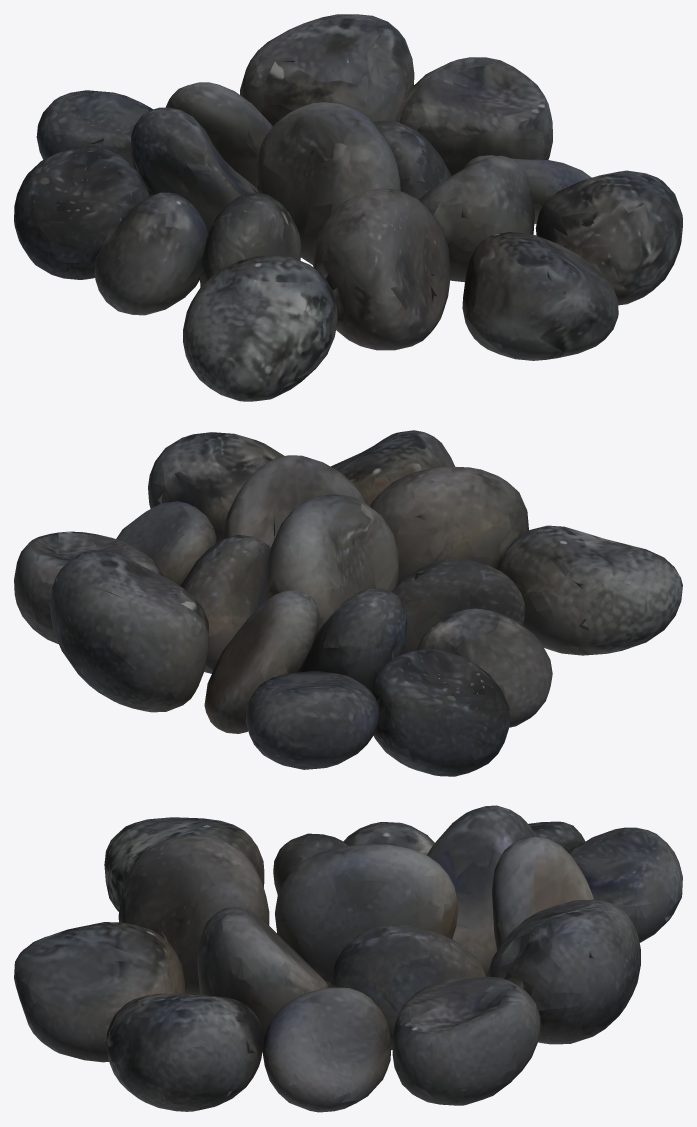
The model's file is rock.glb.
The picture shows the model from 3 angles, top to bottom: view 1: azimuth 30°, elevation 25°; view 2: azimuth 150°, elevation 25°; view 3: azimuth 270°, elevation 25°; orthographic projection. The views are drawn at different scales.
Parts seen in each view (by area): view 1: tripo_node_f4fd3bc9; view 2: tripo_node_f4fd3bc9; view 3: tripo_node_f4fd3bc9.
Boxes of the visible parts, bbox=[...] form: tripo_node_f4fd3bc9: bbox=[14, 14, 682, 401]; tripo_node_f4fd3bc9: bbox=[14, 430, 682, 776]; tripo_node_f4fd3bc9: bbox=[14, 805, 682, 1112].
Size of the model in its own units: 3.11 by 1 by 3.57.
1 material, 1 textured.
